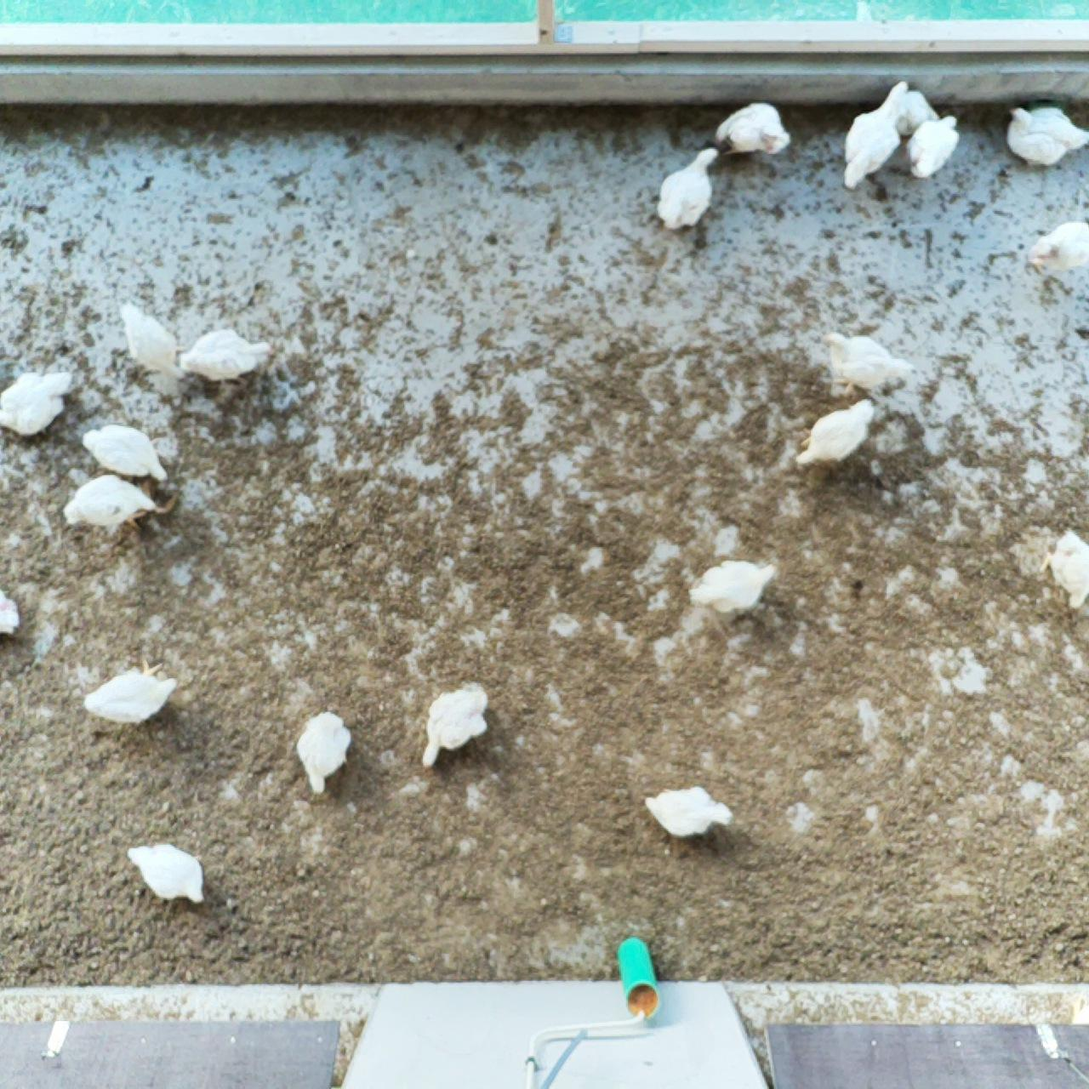chicken: (839, 78, 912, 195), (60, 472, 181, 538), (79, 654, 181, 727), (418, 679, 493, 775), (183, 324, 281, 393), (820, 329, 913, 399), (790, 398, 878, 471), (121, 837, 210, 909), (115, 297, 185, 385), (653, 147, 722, 234), (78, 423, 173, 483), (0, 369, 81, 439), (689, 554, 780, 616), (1005, 102, 1089, 168), (292, 709, 354, 795), (644, 781, 735, 839), (1037, 527, 1089, 612), (714, 101, 794, 156), (902, 115, 961, 182), (1023, 216, 1089, 274), (897, 87, 940, 133)
